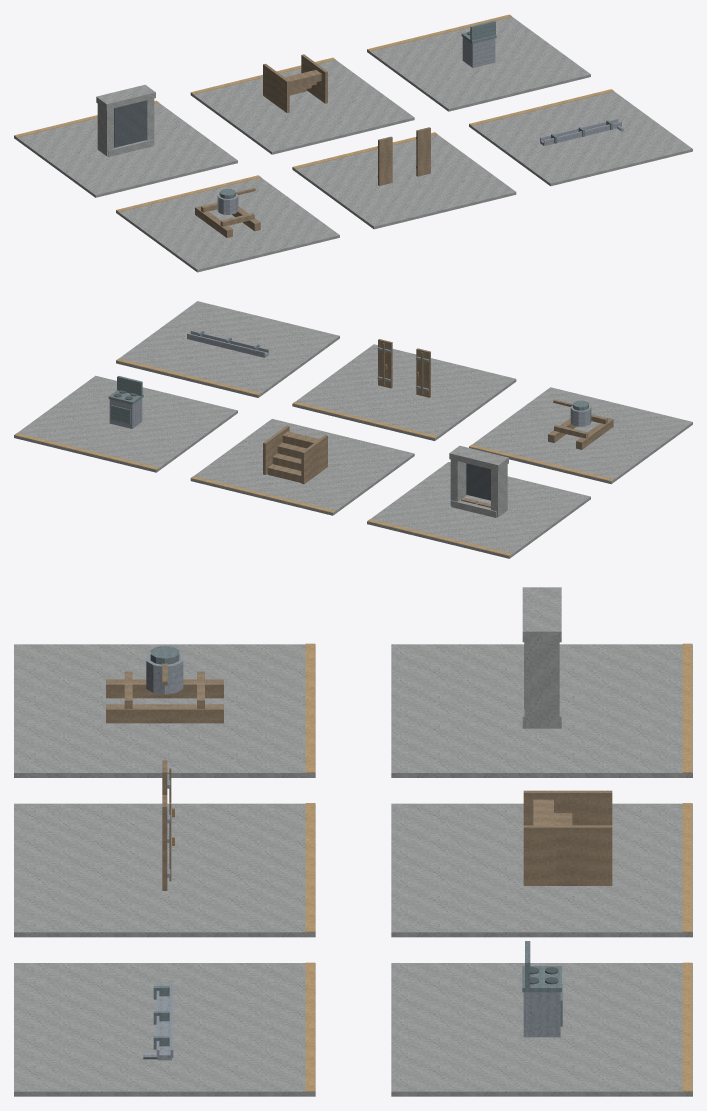
The model's file is level_blockout_kit_farmhouse_p04.glb.
3 renders of one model, top to bottom at view 1: azimuth 30°, elevation 25°; view 2: azimuth 150°, elevation 25°; view 3: azimuth 270°, elevation 25°, orthographic. The views are drawn at different scales.
Parts seen in each view (by area): view 1: level_blockout_kit_farmhouse_p04; view 2: level_blockout_kit_farmhouse_p04; view 3: level_blockout_kit_farmhouse_p04.
Boxes of the visible parts, x1,y1,x2,y2 form: level_blockout_kit_farmhouse_p04: (14, 14, 692, 272); level_blockout_kit_farmhouse_p04: (14, 301, 692, 558); level_blockout_kit_farmhouse_p04: (14, 587, 692, 1096).
Bounding box in the file's own units: 19.65 × 2.13 × 12.6.
7 materials, 7 textured.
